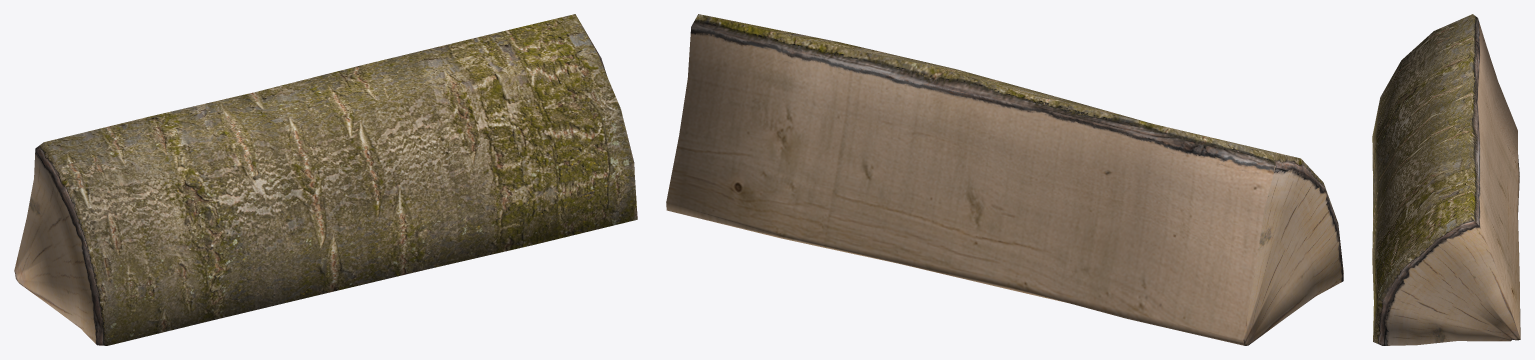
Rendered from Block.fbx.
3 views of the same model, side by side, from view 1: azimuth 30°, elevation 25°; view 2: azimuth 150°, elevation 25°; view 3: azimuth 270°, elevation 25° (orthographic). The views are drawn at different scales.
Visible parts, largest first — view 1: Block; view 2: Block; view 3: Block.
Boxes of the visible parts, bbox=[...] form: Block: bbox=[14, 14, 637, 345]; Block: bbox=[666, 14, 1343, 345]; Block: bbox=[1372, 14, 1520, 345].
Size of the model in its own units: 58.77 by 17.27 by 17.85.
